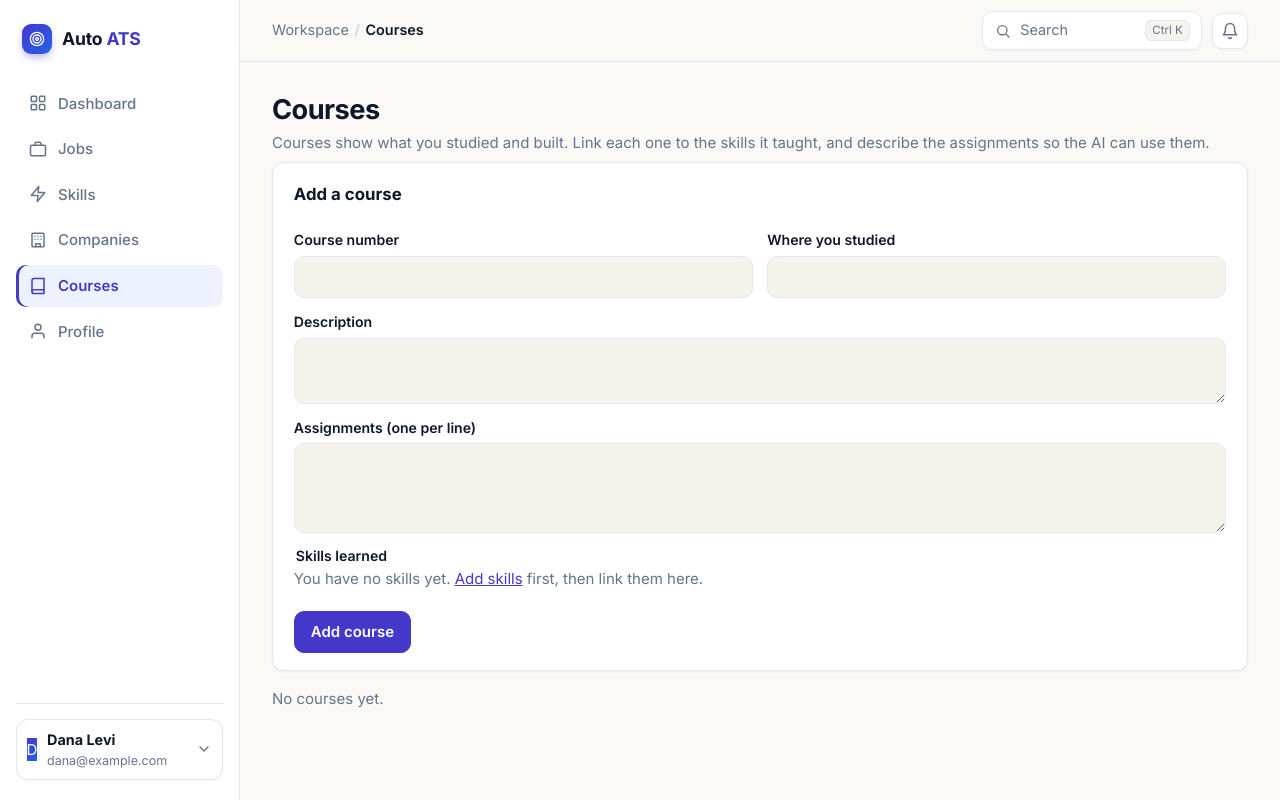
Test: CoursesPage › GivenServerError_WhenAdding_ThenMessageIsShown
expect the text "No courses yet." is shown: met, box [272,689,384,708]
Type "CS1" into the field labelled "Course number".
click(523, 277); type("CS1")  # box [294,256,753,298]
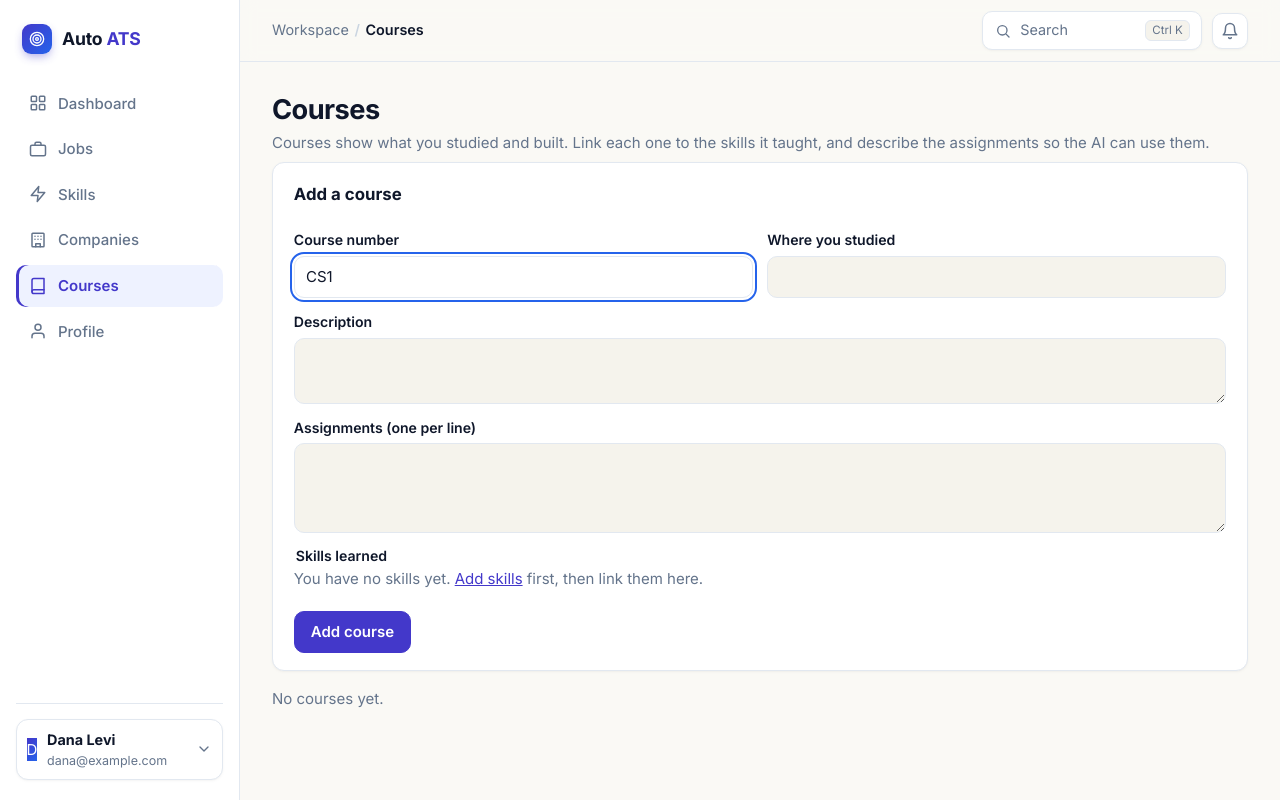
Click the button "Add course".
click(352, 632)  # box [294,611,411,653]
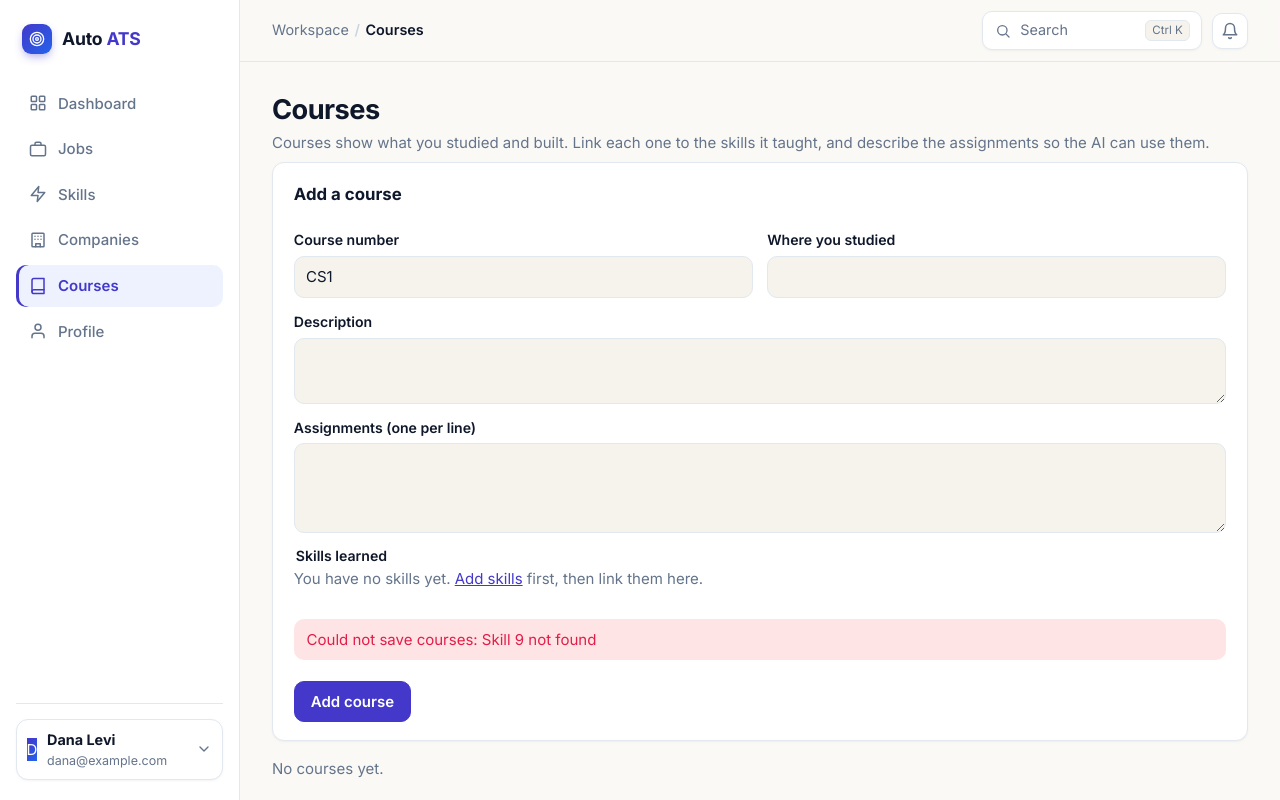
expect the message shows "Skill 9 not found": met, box [307,630,596,649]
